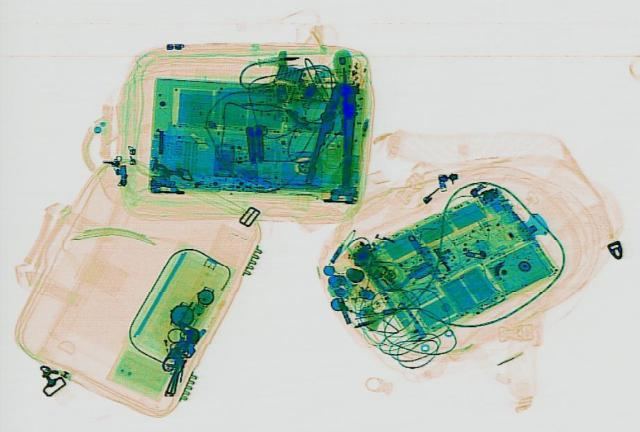Pliers: (304, 81, 366, 187)
